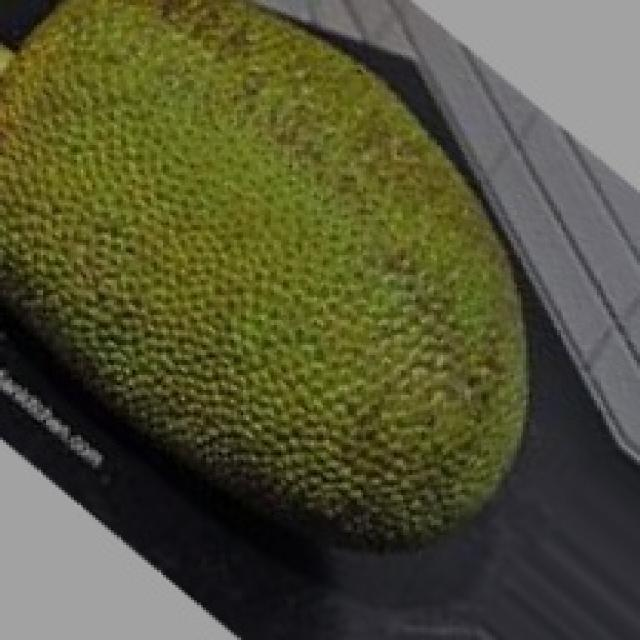Fruit: (222, 192, 590, 600), (188, 0, 584, 318)
